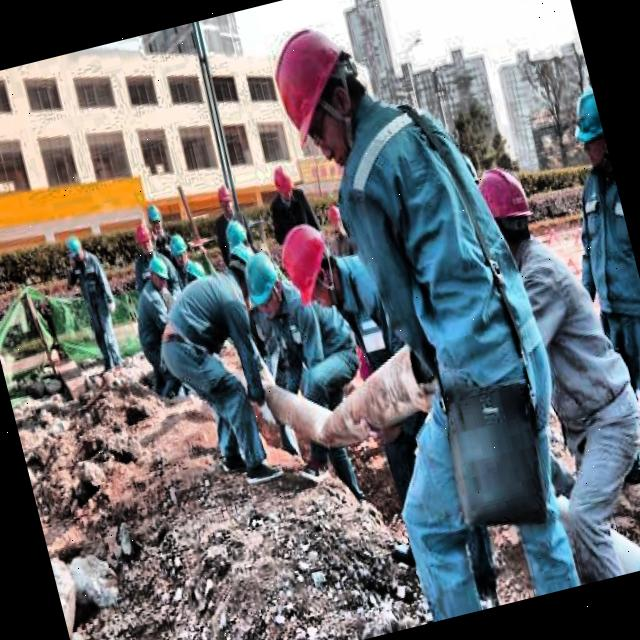helmet: (248, 1, 388, 180), (469, 150, 544, 266), (272, 212, 348, 314), (562, 84, 610, 175), (240, 248, 292, 316), (222, 242, 258, 286), (211, 178, 241, 220), (270, 163, 299, 205), (142, 254, 172, 294), (166, 231, 194, 269), (130, 220, 154, 258), (143, 200, 167, 238), (64, 231, 88, 267)
